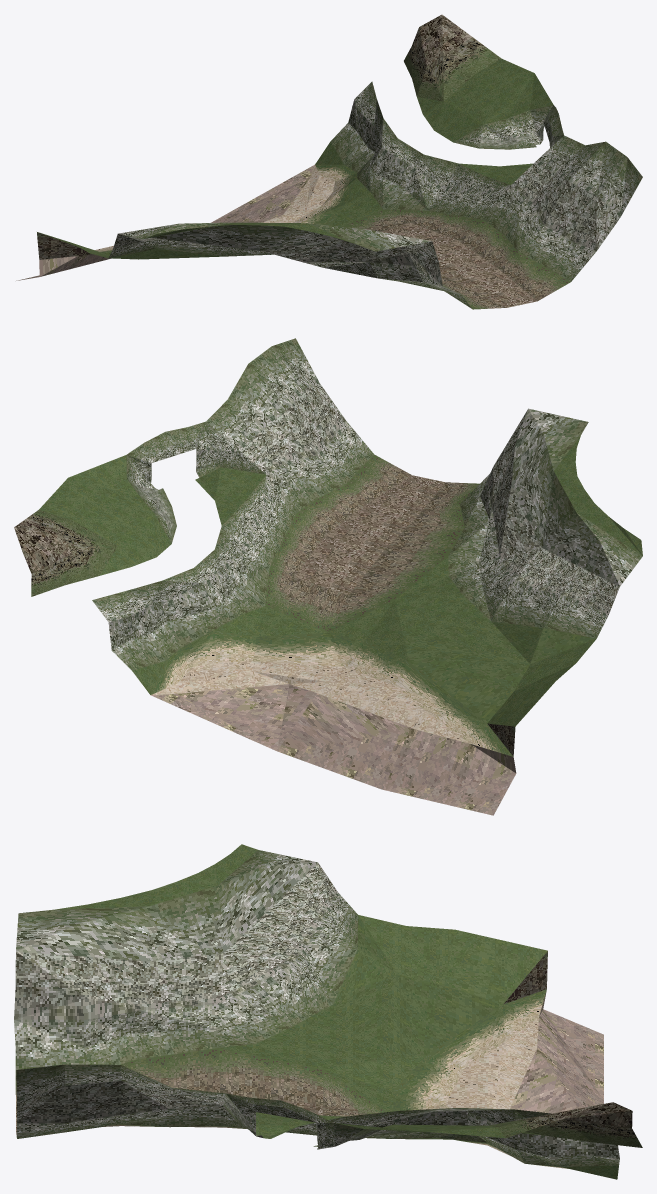
The model's file is lodcunteground05.obj.
The picture shows the model from 3 angles, top to bottom: view 1: azimuth 30°, elevation 25°; view 2: azimuth 150°, elevation 25°; view 3: azimuth 270°, elevation 25°; orthographic projection. The views are drawn at different scales.
Parts seen in each view (by area): view 1: LODcuntEground05; view 2: LODcuntEground05; view 3: LODcuntEground05.
Boxes of the visible parts, box(x1,y1,x2,y2) form: LODcuntEground05: box(16, 14, 642, 309); LODcuntEground05: box(14, 338, 642, 815); LODcuntEground05: box(14, 844, 642, 1179).
Size of the model in its own units: 273 by 101 by 248.
Materials: 11 (11 with a texture image).
